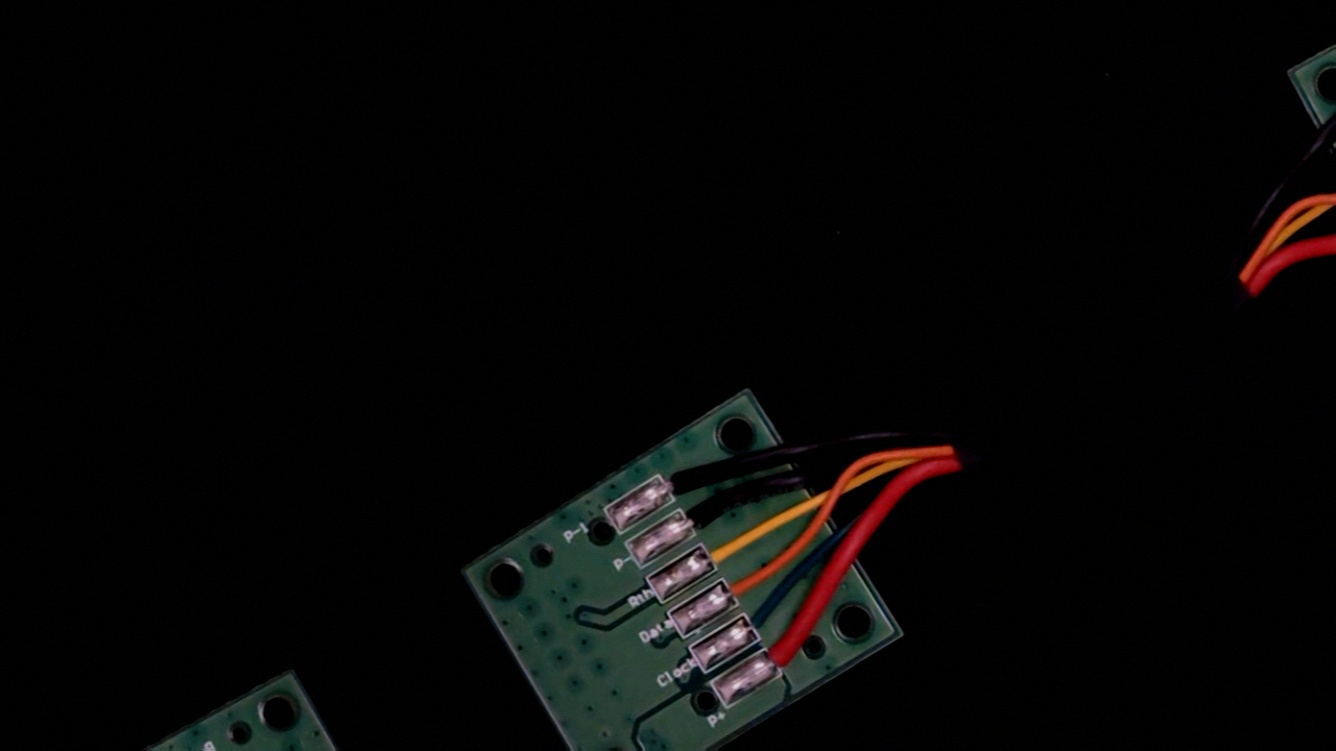Black: (667, 486, 738, 546)
Black1: (641, 447, 719, 512)
Green: (729, 592, 796, 650)
Orange: (707, 553, 781, 616)
Red: (750, 618, 831, 686)
Yellow: (687, 518, 762, 582)
